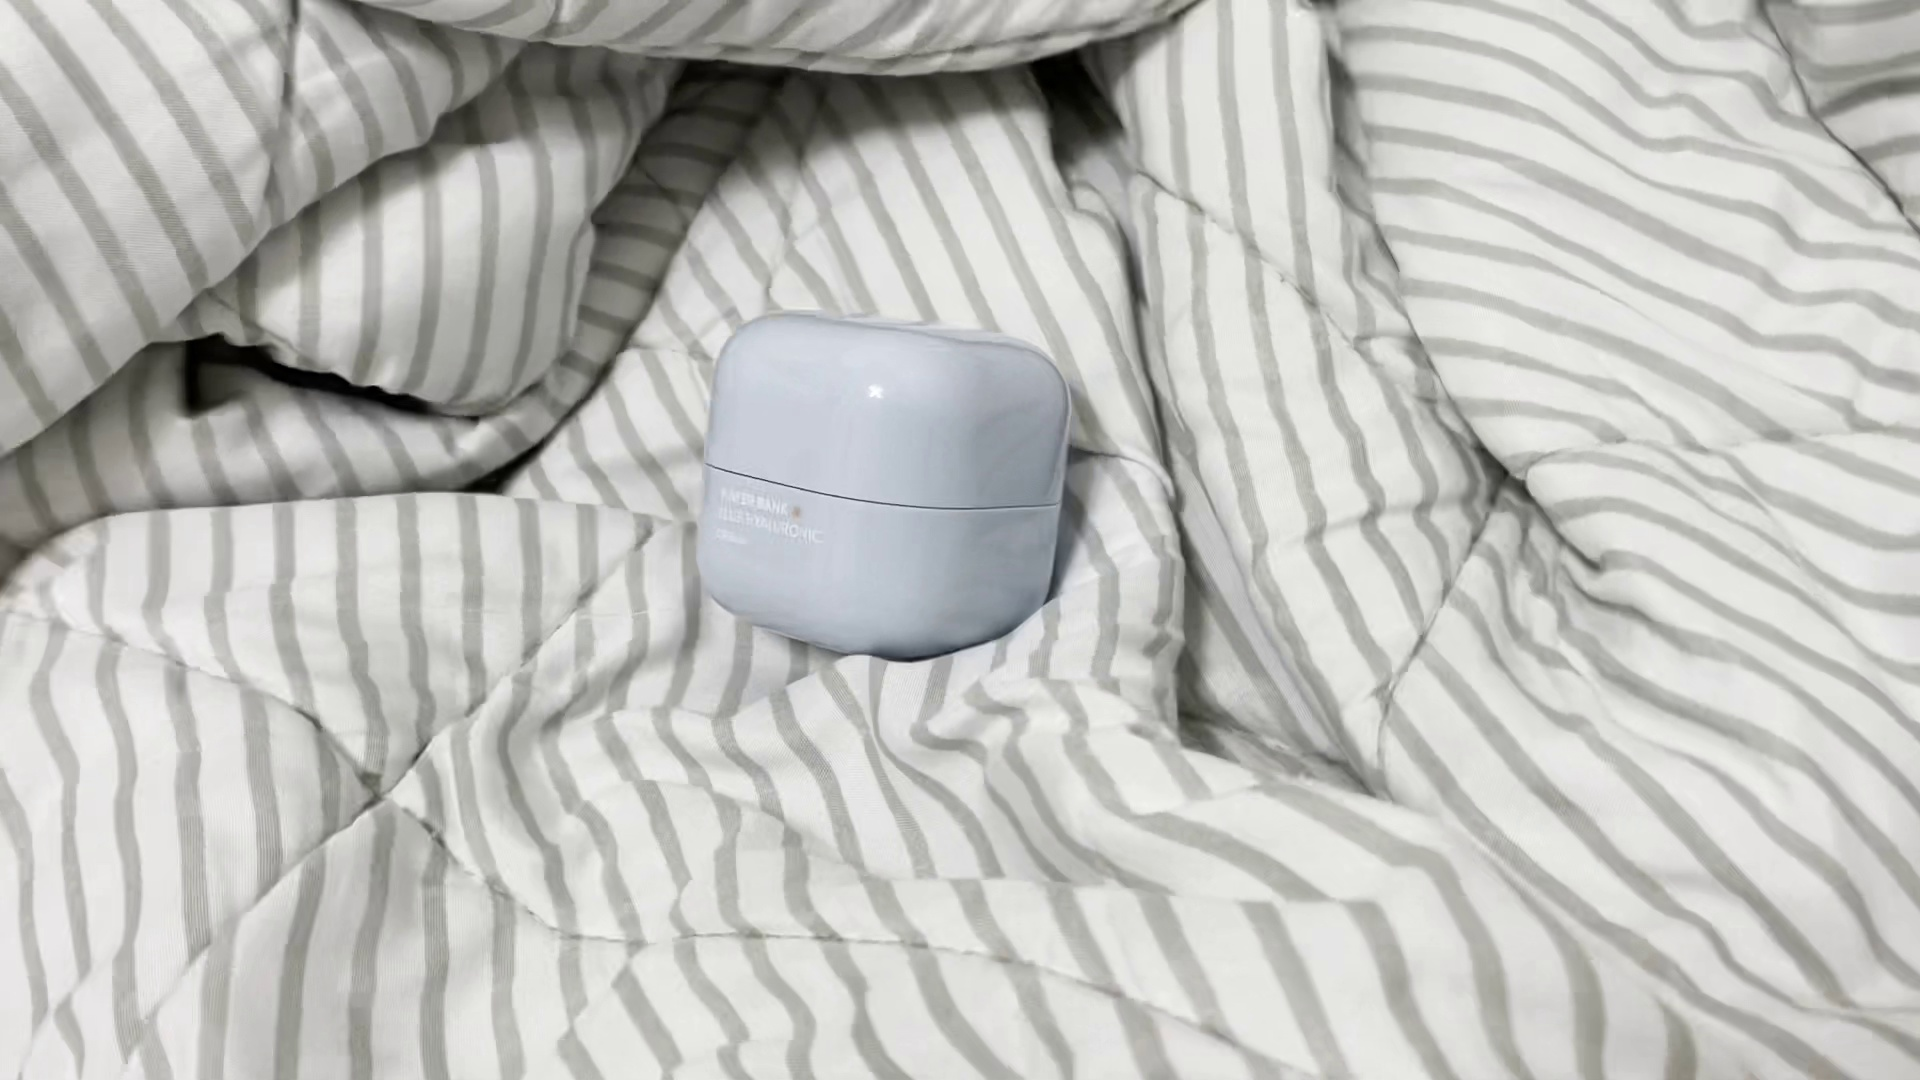cream: (699, 309, 1069, 658)
